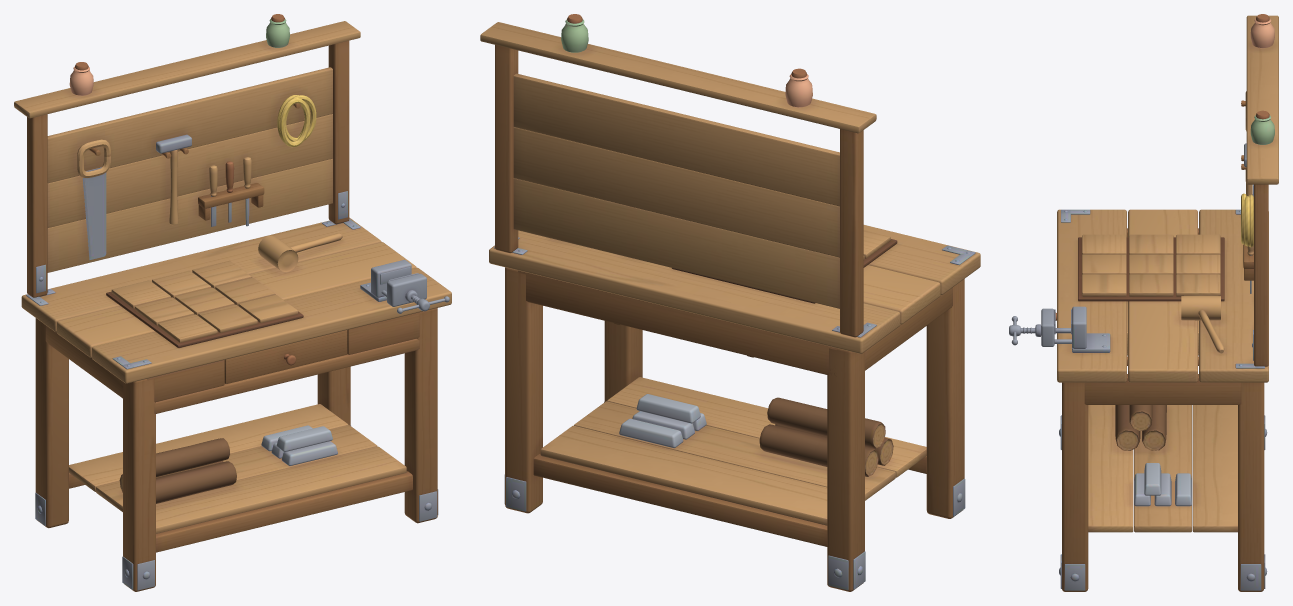
File: crafting-table.glb
3 renders of one model, left to right at view 1: azimuth 30°, elevation 25°; view 2: azimuth 150°, elevation 25°; view 3: azimuth 270°, elevation 25°, orthographic. The views are drawn at different scales.
Visible parts, largest first — view 1: crafting-table_body, crafting-table_drawer, crafting-table_vise; view 2: crafting-table_body; view 3: crafting-table_body, crafting-table_vise.
Part boxes in pixels (bbox=[...]): crafting-table_body: bbox=[14, 14, 451, 591]; crafting-table_drawer: bbox=[224, 330, 347, 383]; crafting-table_vise: bbox=[381, 273, 449, 313]; crafting-table_body: bbox=[480, 14, 980, 591]; crafting-table_body: bbox=[1057, 14, 1278, 591]; crafting-table_vise: bbox=[1009, 308, 1071, 346].
Size of the model in its own units: 1.32 by 1.69 by 0.92.
3 materials, 3 textured.
